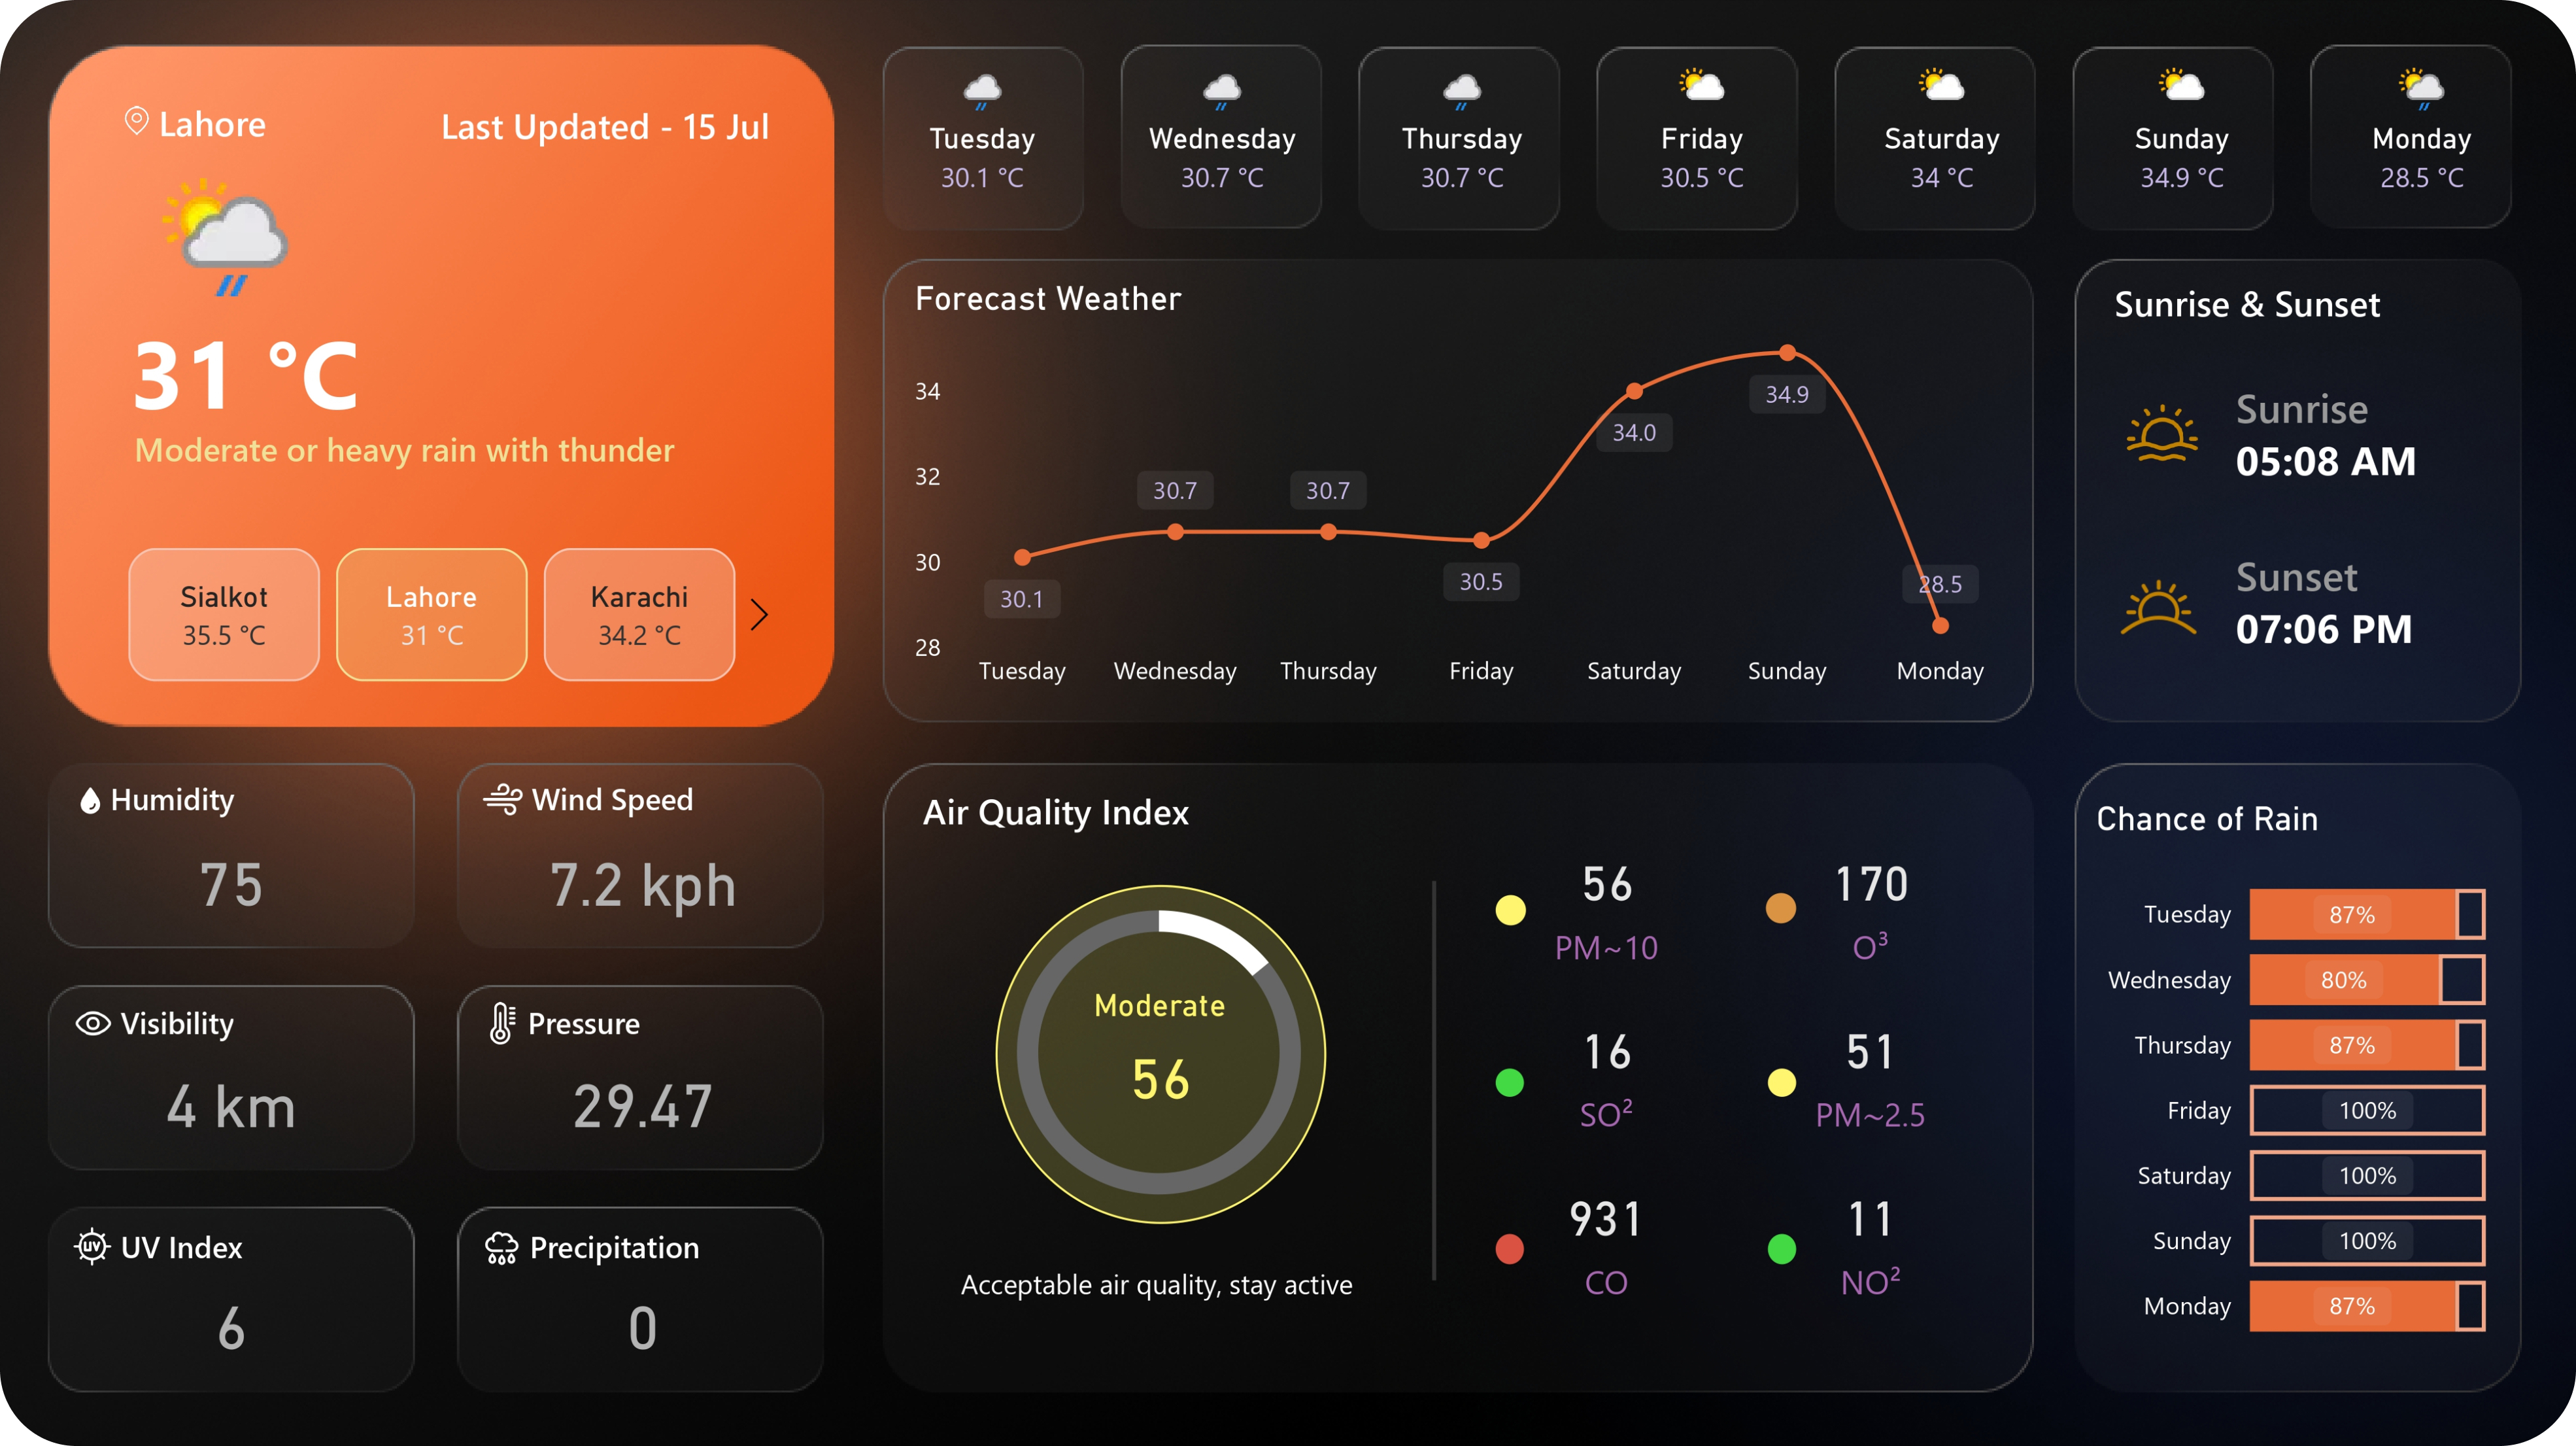

This screenshot's page, from the dashboard's own definition file:
{"tool":"powerbi","page":{"name":"Pro_Weather_Proj","canvas":[1280,720],"ordinal":0},"visuals":[{"type":"shape","box":[1110.1,205.3,137.8,44.4],"z":0,"group":"g3"},{"type":"shape","box":[1110.2,288.6,137.8,44.4],"z":0,"group":"g4"},{"type":"shape","box":[494.5,438.5,164,168],"z":0,"group":"g6"},{"type":"shape","box":[742.7,443.6,14.5,14.5],"z":0,"group":"g5"},{"type":"image","box":[30.9,491.8,32.7,30.9],"z":0,"group":"g1"},{"type":"card","fields":{"Values":["_Measures.Vis_Km"]},"box":[41,523,150,47],"z":0},{"type":"shape","box":[61,605.9,90,24.4],"z":0,"group":"g2"},{"type":"shape","box":[1110,179,137.8,44.4],"z":1000,"group":"g3"},{"type":"shape","box":[1110.1,262.2,137.8,44.4],"z":1000,"group":"g4"},{"type":"card","fields":{"Values":["Sum(Current.current.air_quality.pm10)"]},"box":[749.9,414,96,73],"z":1000},{"type":"donutChart","fields":{"Y":["Sum(Current.current.air_quality.pm10)","_Measures.Left_Value_PM10"]},"box":[483,424,186.2,201.2],"z":1000,"group":"g6"},{"type":"shape","box":[60.6,494.9,90,24.4],"z":1000,"group":"g1"},{"type":"shape","box":[743,530,14,14],"z":1000,"group":"g5"},{"type":"image","box":[31,603,32,30],"z":1000,"group":"g2"},{"type":"shape","box":[877.4,443.3,14.5,14.5],"z":2000},{"type":"shape","box":[743,612,14,15],"z":2000,"group":"g5"},{"type":"card","fields":{"Values":["Sum(Current.current.air_quality.gb-defra-index)"]},"box":[41,633,150,47],"z":3000},{"type":"card","fields":{"Values":["Sum(Current.current.air_quality.so2)"]},"box":[749.9,497,96,73],"z":4000},{"type":"shape","box":[877.7,529.7,14,14],"z":5000},{"type":"advancedSlicerVisual","fields":{"Values":["Locations.location.name"]},"box":[40,267.1,352.9,75.7],"z":6000},{"type":"card","fields":{"Values":["Sum(Current.current.air_quality.co)"]},"box":[749.9,580,96,73],"z":7000},{"type":"shape","box":[877.7,611.7,14,15],"z":8000},{"type":"shape","box":[263.8,606.1,90,24.4],"z":9000},{"type":"card","fields":{"Values":["Sum(Current.current.pressure_in)"]},"box":[245,523,150,47],"z":10000},{"type":"card","fields":{"Values":["Sum(Current.current.precip_in)"]},"box":[245,633,150,47],"z":11000},{"type":"shape","box":[56.5,384.1,90,24.1],"z":12000},{"type":"shape","box":[265,384.2,90,24.2],"z":13000},{"type":"shape","box":[263.5,495.1,90,24.4],"z":14000},{"type":"shape","box":[65.8,153.3,236.7,60.8],"z":15000},{"type":"shape","box":[68,192,317,61],"z":16000},{"type":"shape","box":[79.7,43.5,120,33.7],"z":17000},{"type":"shape","box":[185,43.8,197.5,33.8],"z":18000},{"type":"image","box":[52.1,48.4,32.6,23.9],"z":19000},{"type":"cardVisual","fields":{"Data":["Min(Current.current.condition.icon)"]},"box":[52.5,60.8,115.8,105],"z":20000},{"type":"image","box":[31.2,384.7,30,24.7],"z":21000},{"type":"image","box":[234,381,32,31],"z":22000},{"type":"image","box":[234,492,32,31],"z":23000},{"type":"group","id":"g1","title":"Group 1","box":[30.9,491.8,119.7,30.9],"z":24000},{"type":"group","id":"g2","title":"Group 2","box":[31,603,120,30],"z":25000},{"type":"image","box":[234.2,604.2,31.7,30],"z":26000},{"type":"card","fields":{"Values":["Sum(Current.current.humidity)"]},"box":[41,413,150,47],"z":27000},{"type":"card","fields":{"Values":["_Measures.Wind_Speed"]},"box":[245,413,150,47],"z":28000},{"type":"advancedSlicerVisual","fields":{"Values":["Forecast_Day.Day_Name"]},"box":[428.2,24.1,834.7,90],"z":29000},{"type":"lineChart","title":"Forecast Weather","fields":{"Y":["Sum(Forecast_Day.forecast.forecastday.day.avgtemp_c)"],"Category":["Forecast_Day.Day_Name"]},"box":[450,137.9,549.3,213.6],"z":30000},{"type":"group","id":"g3","title":"Group 3","box":[1110,179,137.9,70.7],"z":31000},{"type":"group","id":"g4","title":"Group 4","box":[1110.1,262.2,137.9,70.8],"z":32000},{"type":"shape","box":[1050,131.8,157.3,34.5],"z":33000},{"type":"image","box":[1048,192,50,45],"z":34000},{"type":"image","box":[1042.2,267.8,60,65.6],"z":35000},{"type":"hundredPercentStackedBarChart","title":"Chance of Rain","fields":{"Y":["Sum(Forecast_Day.forecast.forecastday.day.daily_chance_of_rain)","_Measures.Left_value_Rain"],"Category":["Forecast_Day.Day_Name"]},"box":[1035.7,395.7,202.9,282.9],"z":36000},{"type":"shape","box":[458.9,384.4,157.8,34.4],"z":37000},{"type":"card","fields":{"Values":["Sum(Current.current.air_quality.o3)"]},"box":[880.7,413.5,96,73],"z":38000},{"type":"card","fields":{"Values":["Sum(Current.current.air_quality.pm2_5)"]},"box":[880.7,496.5,96,73],"z":39000},{"type":"card","fields":{"Values":["Sum(Current.current.air_quality.no2)"]},"box":[880.7,579.5,96,73],"z":40000},{"type":"group","id":"g5","title":"Group 5","box":[742.7,443.6,14.5,183.4],"z":41000},{"type":"shape","box":[686.7,436.7,51.7,198.3],"z":42000},{"type":"shape","box":[461,619,228,34],"z":43000},{"type":"group","id":"g6","title":"Group 6","box":[483,424,186.2,201.2],"z":44000},{"type":"card","fields":{"Values":["Sum(Current.current.air_quality.pm10)"]},"box":[529.2,489,95,71.2],"z":45000,"group":"g6"}]}

Visuals, with their boxes in screenshot pixels (x1, y1, x2, y2), scaled from the page's 1280x720 canvas onto the 2576x1446 screenshot:
shape: select_region(2234, 412, 2511, 502)
shape: select_region(2234, 579, 2512, 669)
shape: select_region(995, 881, 1325, 1218)
shape: select_region(1495, 891, 1524, 920)
image: select_region(62, 988, 128, 1050)
card - _Measures.Vis_Km: select_region(82, 1050, 384, 1145)
shape: select_region(123, 1217, 304, 1266)
shape: select_region(2234, 360, 2511, 449)
shape: select_region(2234, 526, 2511, 616)
card - Sum(Current.current.air_quality.pm10): select_region(1509, 831, 1703, 978)
donutChart - Sum(Current.current.air_quality.pm10) x _Measures.Left_Value_PM10: select_region(972, 852, 1347, 1256)
shape: select_region(122, 994, 303, 1043)
shape: select_region(1495, 1065, 1523, 1093)
image: select_region(62, 1211, 127, 1271)
shape: select_region(1766, 890, 1795, 920)
shape: select_region(1495, 1229, 1523, 1259)
card - Sum(Current.current.air_quality.gb-defra-index): select_region(82, 1271, 384, 1366)
card - Sum(Current.current.air_quality.so2): select_region(1509, 998, 1703, 1145)
shape: select_region(1767, 1064, 1795, 1092)
advancedSlicerVisual - Locations.location.name: select_region(80, 536, 790, 689)
card - Sum(Current.current.air_quality.co): select_region(1509, 1165, 1703, 1311)
shape: select_region(1767, 1228, 1795, 1258)
shape: select_region(531, 1217, 712, 1266)
card - Sum(Current.current.pressure_in): select_region(493, 1050, 795, 1145)
card - Sum(Current.current.precip_in): select_region(493, 1271, 795, 1366)
shape: select_region(114, 772, 295, 820)
shape: select_region(534, 772, 715, 820)
shape: select_region(530, 994, 711, 1043)
shape: select_region(133, 308, 609, 430)
shape: select_region(137, 386, 775, 508)
shape: select_region(160, 88, 402, 155)
shape: select_region(372, 88, 770, 156)
image: select_region(105, 97, 171, 145)
cardVisual - Min(Current.current.condition.icon): select_region(106, 122, 339, 333)
image: select_region(63, 772, 123, 822)
image: select_region(471, 765, 535, 827)
image: select_region(471, 988, 535, 1050)
"Group 1" group: select_region(62, 988, 303, 1050)
"Group 2" group: select_region(62, 1211, 304, 1271)
image: select_region(471, 1213, 535, 1274)
card - Sum(Current.current.humidity): select_region(82, 829, 384, 924)
card - _Measures.Wind_Speed: select_region(493, 829, 795, 924)
advancedSlicerVisual - Forecast_Day.Day_Name: select_region(862, 48, 2541, 229)
"Forecast Weather" lineChart: select_region(906, 277, 2011, 706)
"Group 3" group: select_region(2234, 360, 2511, 502)
"Group 4" group: select_region(2234, 526, 2512, 669)
shape: select_region(2113, 265, 2430, 334)
image: select_region(2109, 386, 2210, 476)
image: select_region(2097, 538, 2218, 670)
"Chance of Rain" hundredPercentStackedBarChart: select_region(2084, 795, 2493, 1363)
shape: select_region(924, 772, 1241, 841)
card - Sum(Current.current.air_quality.o3): select_region(1772, 831, 1965, 977)
card - Sum(Current.current.air_quality.pm2_5): select_region(1772, 997, 1965, 1144)
card - Sum(Current.current.air_quality.no2): select_region(1772, 1164, 1965, 1311)
"Group 5" group: select_region(1495, 891, 1524, 1259)
shape: select_region(1382, 877, 1486, 1275)
shape: select_region(928, 1243, 1387, 1311)
"Group 6" group: select_region(972, 852, 1347, 1256)
card - Sum(Current.current.air_quality.pm10): select_region(1065, 982, 1256, 1125)
